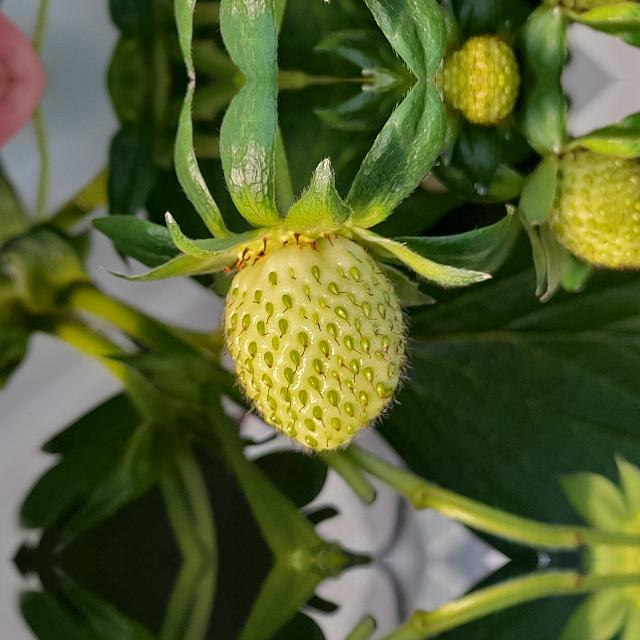Health_25: (220, 234, 414, 456), (548, 142, 640, 276)
